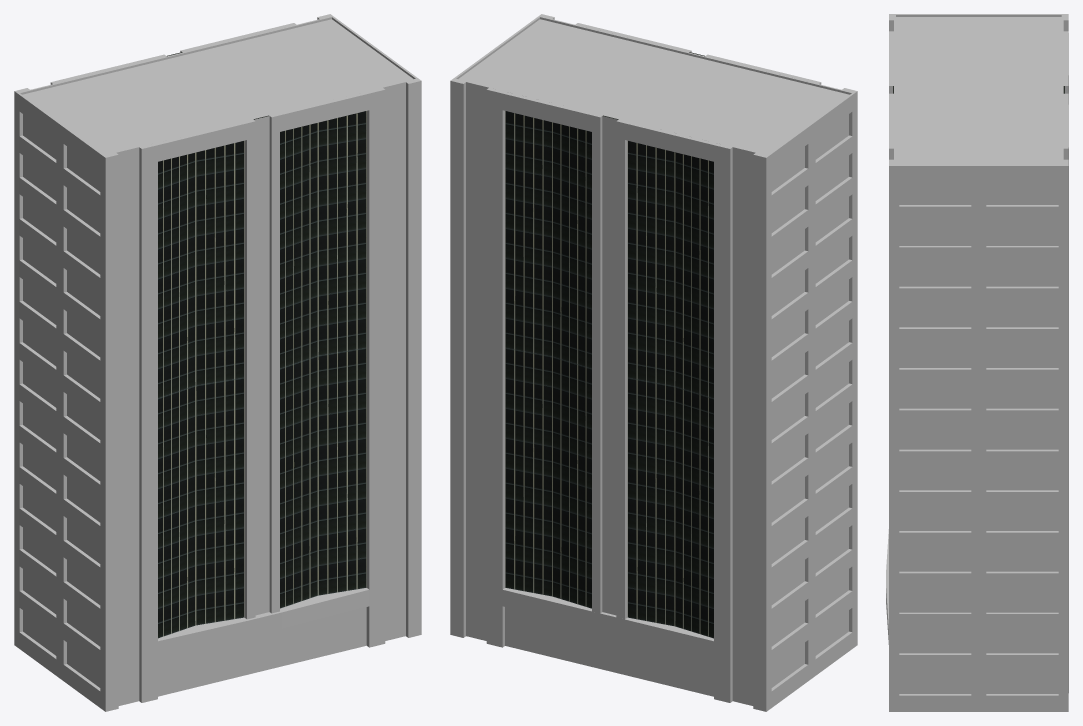
3 views of the same model, side by side, from view 1: azimuth 30°, elevation 25°; view 2: azimuth 150°, elevation 25°; view 3: azimuth 270°, elevation 25° (orthographic).
Visible parts, largest first — view 1: BB-061; view 2: BB-061; view 3: BB-061.
Part boxes in pixels (x1,y1,x2,y2): BB-061: [14, 14, 421, 711]; BB-061: [450, 14, 857, 711]; BB-061: [886, 14, 1068, 711].
Size of what is drawn, in the model's own units: 24 by 40.21 by 12.2.
